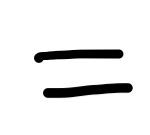eqv: (35, 49, 133, 99)
